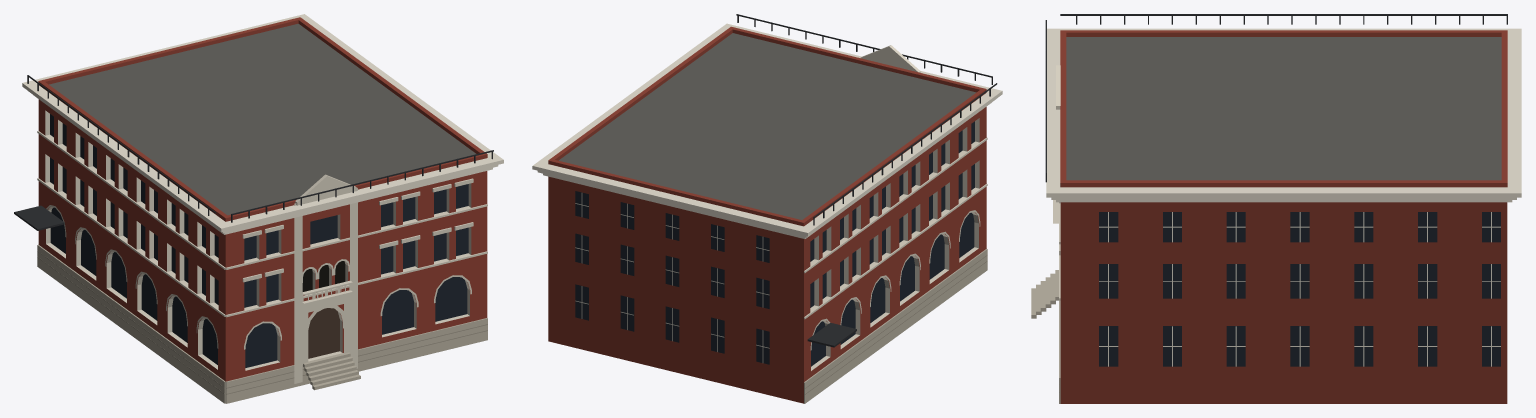
File: elks-club.glb
3 views of the same model, side by side, from view 1: azimuth 30°, elevation 25°; view 2: azimuth 150°, elevation 25°; view 3: azimuth 270°, elevation 25° (orthographic). The views are drawn at different scales.
Visible parts, largest first — view 1: elks_roof, elks_brick, elks_stone, elks_glass, elks_base, elks_trim, elks_iron, elks_door, elks_joint, elks_shadow; view 2: elks_roof, elks_brick2, elks_brick, elks_glass, elks_trim, elks_stone, elks_base, elks_iron, elks_sash, elks_joint; view 3: elks_brick2, elks_roof, elks_glass, elks_trim, elks_brick, elks_sash, elks_iron, elks_base, elks_stone.
Boxes of the visible parts, left/top/right/bottom form: elks_roof: left=49, top=23, right=475, bottom=215; elks_brick: left=38, top=17, right=487, bottom=381; elks_stone: left=37, top=110, right=487, bottom=383; elks_glass: left=50, top=114, right=468, bottom=367; elks_base: left=37, top=244, right=487, bottom=403; elks_trim: left=22, top=14, right=503, bottom=234; elks_iron: left=14, top=75, right=493, bottom=230; elks_door: left=308, top=308, right=339, bottom=358; elks_joint: left=37, top=251, right=487, bottom=394; elks_shadow: left=302, top=261, right=345, bottom=291; elks_roof: left=559, top=33, right=976, bottom=219; elks_brick2: left=548, top=176, right=803, bottom=403; elks_brick: left=548, top=26, right=986, bottom=381; elks_glass: left=575, top=121, right=974, bottom=366; elks_trim: left=532, top=23, right=1002, bottom=238; elks_stone: left=804, top=45, right=987, bottom=370; elks_base: left=804, top=248, right=987, bottom=403; elks_iron: left=736, top=14, right=997, bottom=347; elks_sash: left=575, top=193, right=769, bottom=362; elks_joint: left=805, top=255, right=987, bottom=394; elks_brick2: left=1060, top=202, right=1507, bottom=403; elks_roof: left=1066, top=37, right=1501, bottom=180; elks_glass: left=1099, top=212, right=1500, bottom=366; elks_trim: left=1046, top=28, right=1521, bottom=202; elks_brick: left=1060, top=30, right=1507, bottom=187; elks_sash: left=1099, top=212, right=1500, bottom=366; elks_iron: left=1045, top=14, right=1507, bottom=182; elks_base: left=1031, top=270, right=1060, bottom=403; elks_stone: left=1053, top=65, right=1060, bottom=300.
Bounding box in the file's own units: 25.9 × 16.9 × 30.75.
